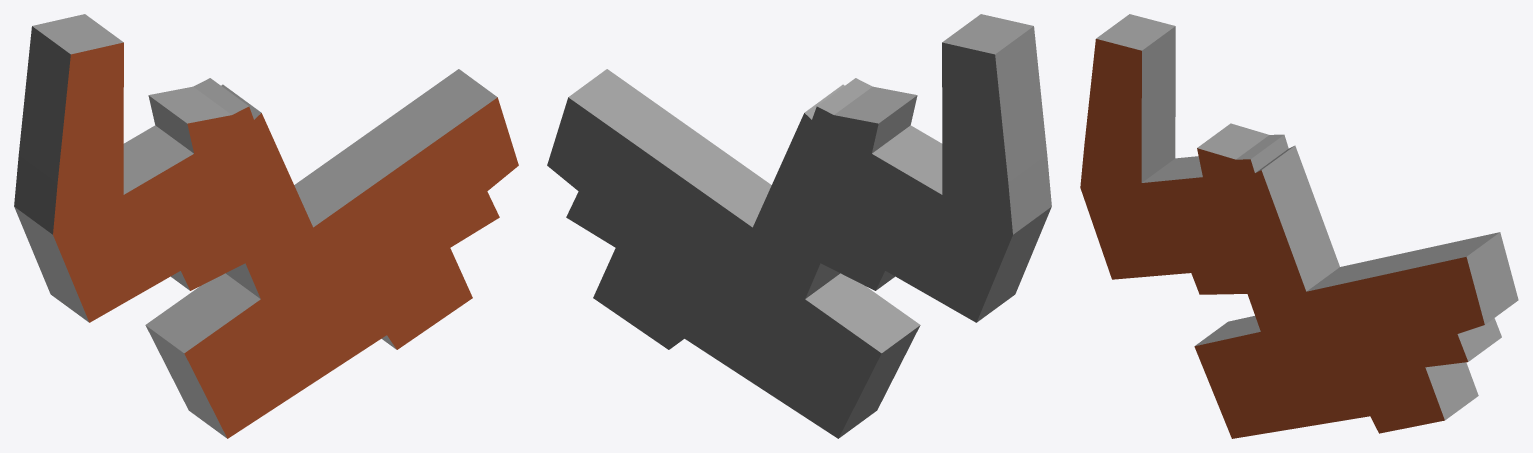
The model's file is construction_2512_assumed_A_Casa_h6m.obj.
3 views of the same model, side by side, from view 1: azimuth 30°, elevation 25°; view 2: azimuth 150°, elevation 25°; view 3: azimuth 330°, elevation 25° (orthographic). The views are drawn at different scales.
Parts seen in each view (by area): view 1: construction_2512_assumed_A_Casa; view 2: construction_2512_assumed_A_Casa; view 3: construction_2512_assumed_A_Casa.
Boxes of the visible parts, x1,y1,x2,y2 form: construction_2512_assumed_A_Casa: [14, 14, 518, 438]; construction_2512_assumed_A_Casa: [547, 14, 1051, 438]; construction_2512_assumed_A_Casa: [1080, 14, 1518, 438].
Size of the model in its own units: 41.49 by 35.97 by 6.
